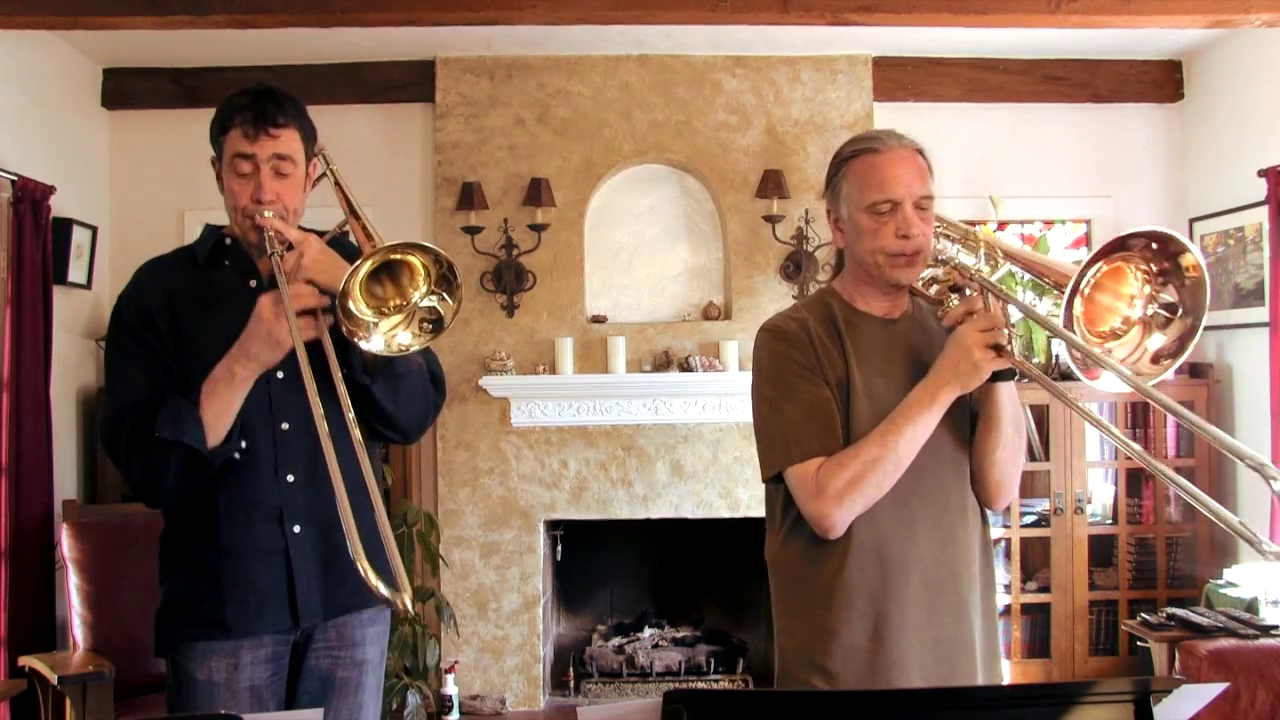person: (103, 85, 447, 720), (753, 130, 1022, 690)
